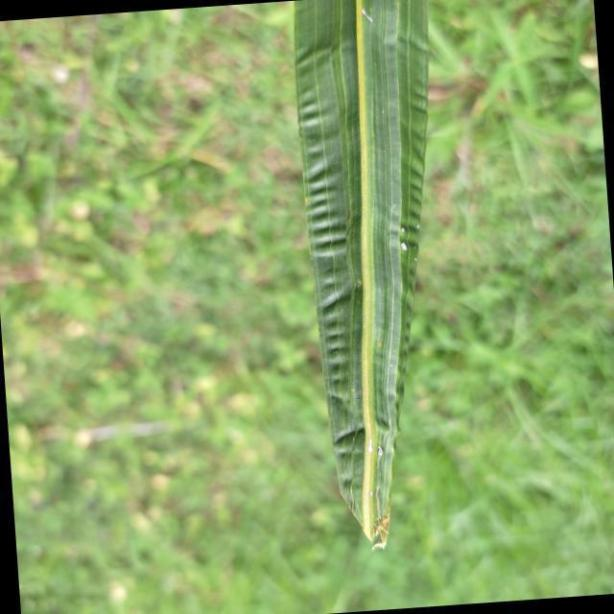Boron: (289, 0, 432, 552)
